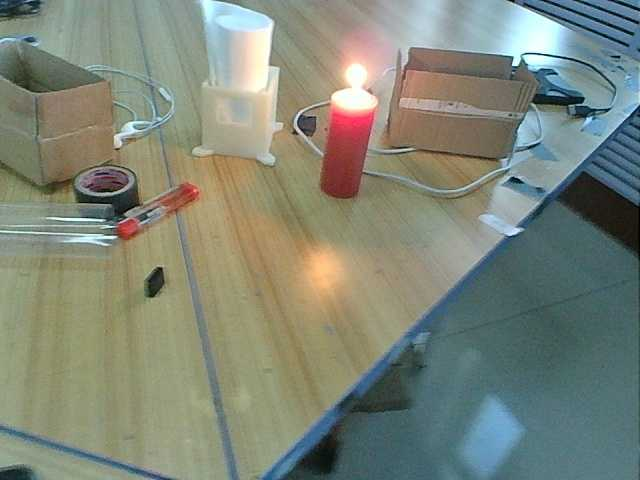candle: (317, 105, 382, 211)
fire: (337, 58, 387, 101)
